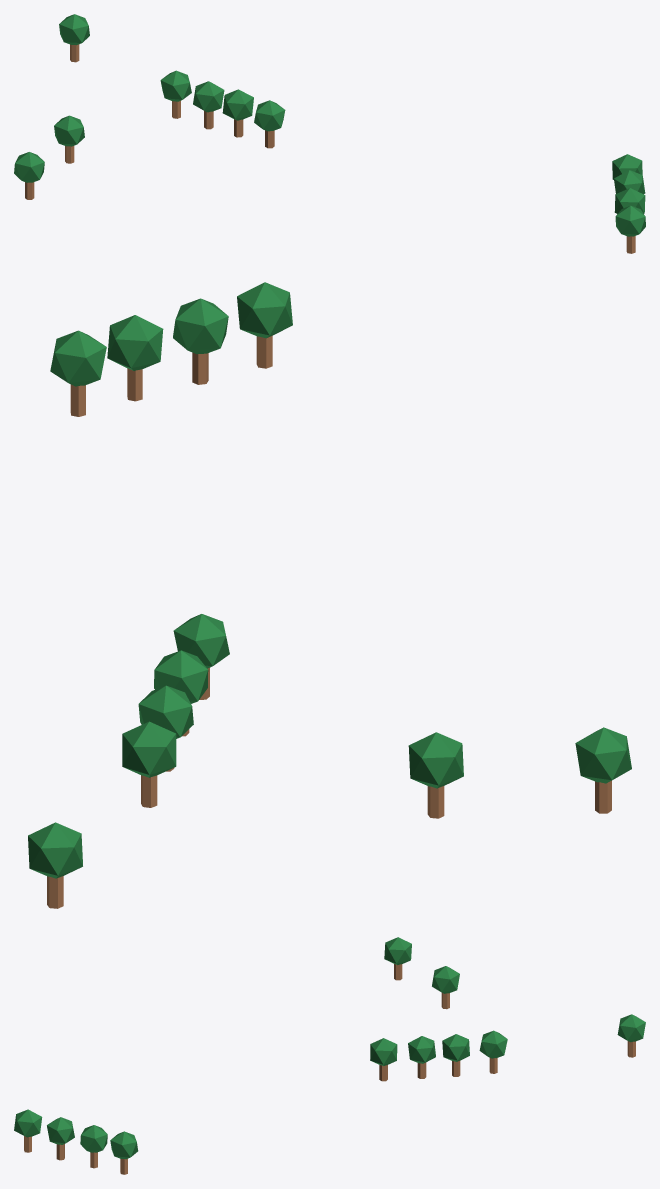
The model's file is 013_イチョウ001.glb.
3 renders of one model, top to bottom at view 1: azimuth 30°, elevation 25°; view 2: azimuth 150°, elevation 25°; view 3: azimuth 270°, elevation 25°, orthographic. The views are drawn at different scales.
Parts seen in each view (by area): view 1: 球001_1, 球001; view 2: 球001_1, 球001; view 3: 球001_1, 球001.
Boxes of the visible parts, x1,y1,x2,y2 form: 球001_1: (14, 14, 645, 236); 球001: (25, 44, 635, 253); 球001_1: (28, 282, 631, 878); 球001: (47, 335, 611, 908); 球001_1: (14, 937, 645, 1159); 球001: (24, 964, 635, 1174).
Size of the model in its own units: 43.32 by 4.71 by 55.94.
